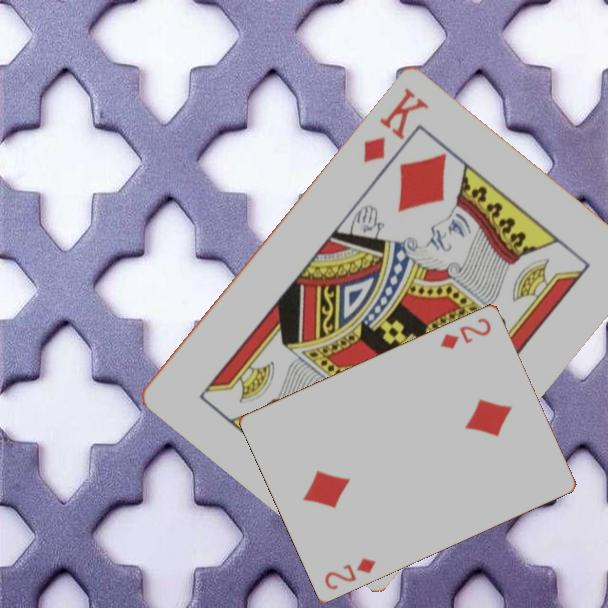d02: (321, 553, 379, 593), (437, 314, 494, 351)
d13: (359, 83, 432, 165)
